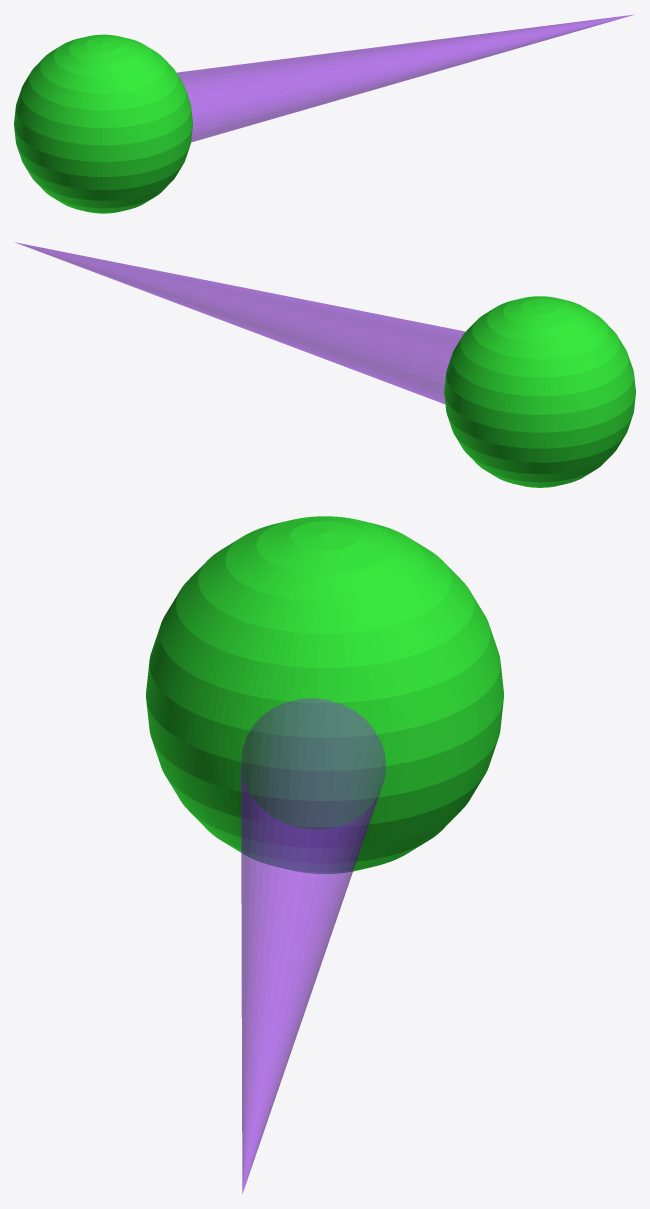
File: earth.glb
3 renders of one model, top to bottom at view 1: azimuth 30°, elevation 25°; view 2: azimuth 150°, elevation 25°; view 3: azimuth 270°, elevation 25°, orthographic. The views are drawn at different scales.
Parts seen in each view (by area): view 1: earth, beam; view 2: earth, beam; view 3: earth, beam.
Boxes of the visible parts, <box> form: earth: <box>14,34,192,213</box>; beam: <box>177,14,633,142</box>; earth: <box>444,296,635,487</box>; beam: <box>15,242,465,403</box>; earth: <box>146,516,503,873</box>; beam: <box>241,698,385,1193</box>.
Bounding box in the file's own units: 4.84e+07 × 1.27e+07 × 1.27e+07.
